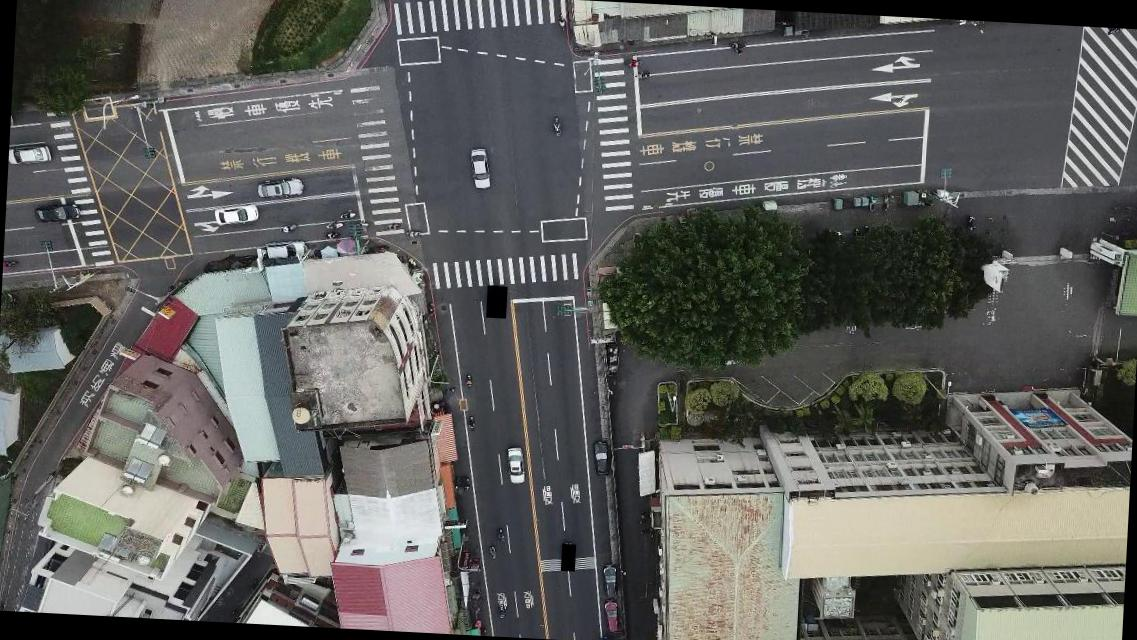vehicle: (7, 140, 52, 167), (34, 200, 80, 226), (468, 146, 494, 190), (256, 176, 303, 200), (213, 202, 260, 226), (264, 241, 306, 263), (591, 439, 613, 476), (506, 446, 526, 485), (599, 565, 620, 601), (602, 599, 622, 635)
